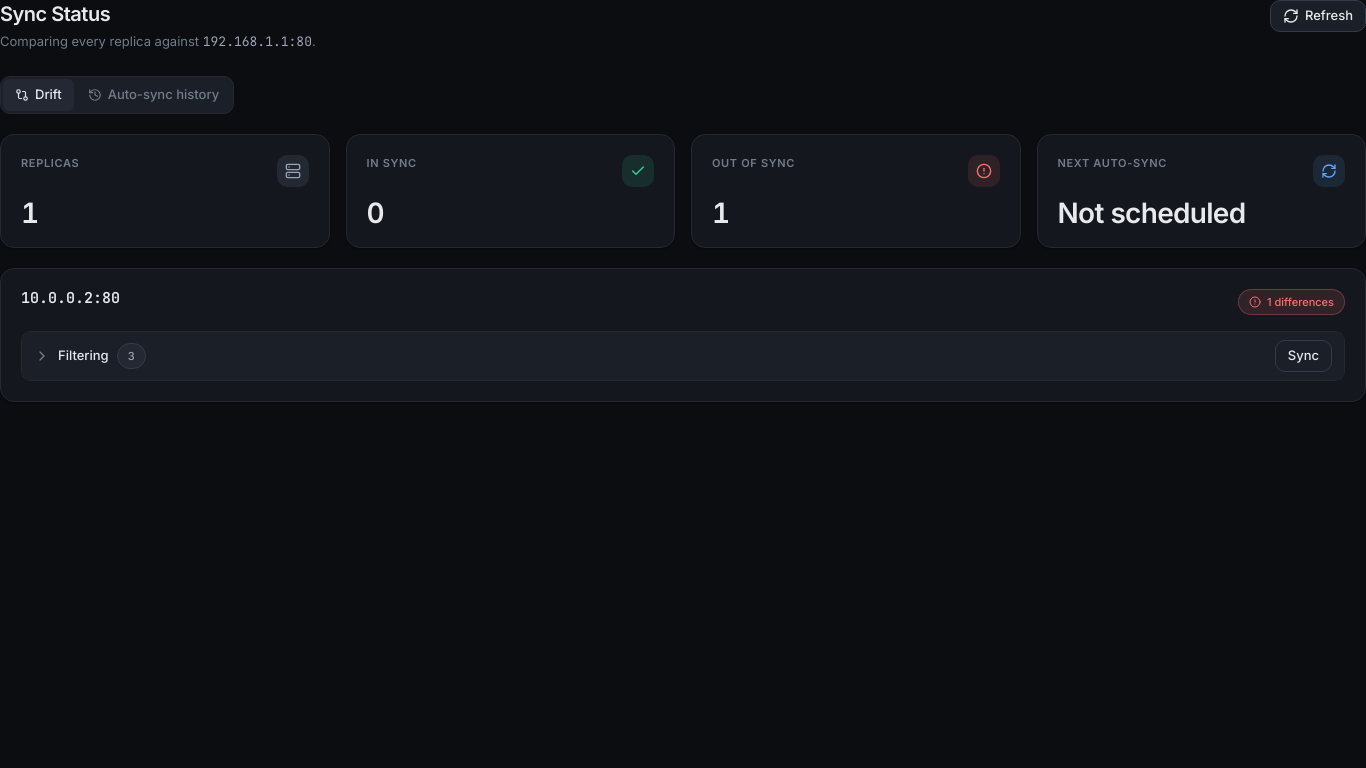
Test: SyncStatusPage › shows field-level differences when a category is expanded
Click the text "Filtering" at coordinates (83, 356), box x1=58 y1=346 x2=109 y2=365
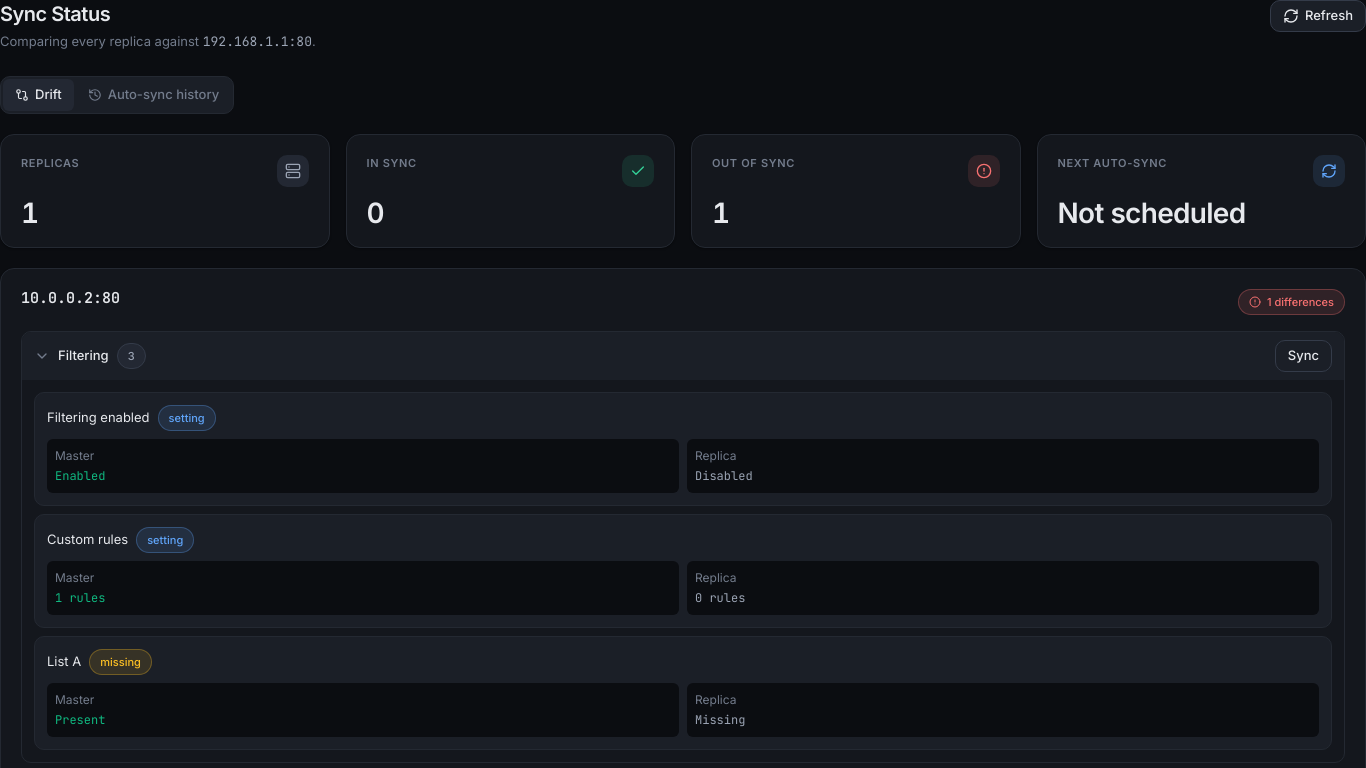
Expected: the text "Filtering enabled" is shown, x1=47 y1=408 x2=150 y2=427
Expected: the text "Custom rules" is shown, x1=47 y1=530 x2=128 y2=549
Expected: the text "List A" is shown, x1=47 y1=652 x2=81 y2=671
